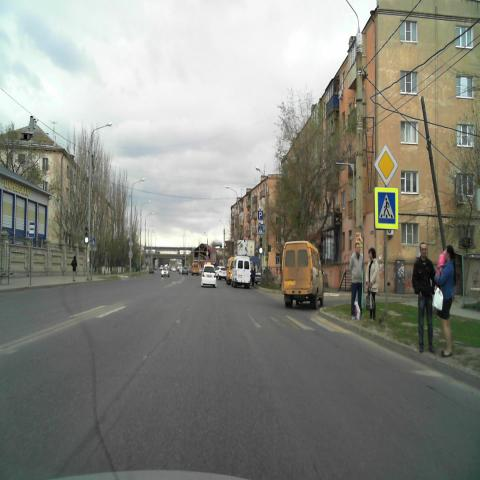2_1: (375, 145, 399, 187)
5_16: (28, 222, 36, 242)
5_19_1: (374, 188, 398, 230), (258, 226, 263, 236)
6_4: (258, 211, 263, 220)
